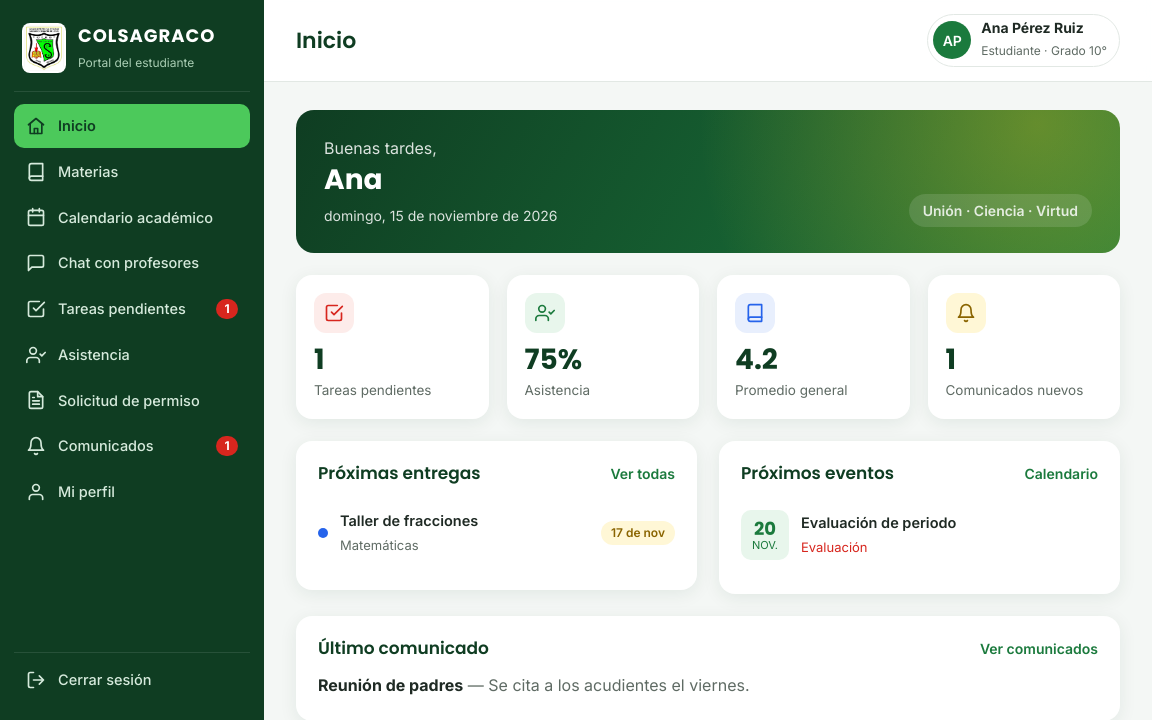
Plataforma del estudiante › Permisos: valida el motivo y envía la solicitud
The width and height of the screenshot is (1152, 720).
Expected: the heading "Ana" is shown, [324,160,382,199]
Click the button "Solicitud de permiso" at coordinates (132, 400), box [14,378,250,422]
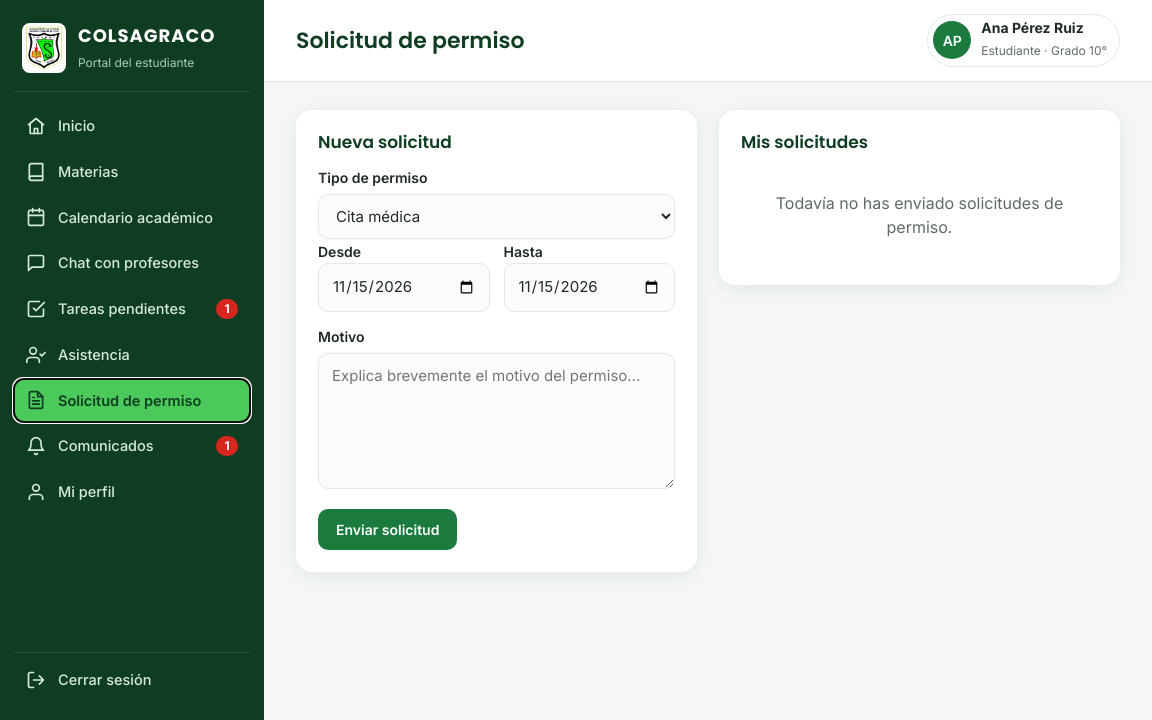
Type "corto" into the text box labelled "Motivo" at coordinates (496, 421), box [318,352,675,489]
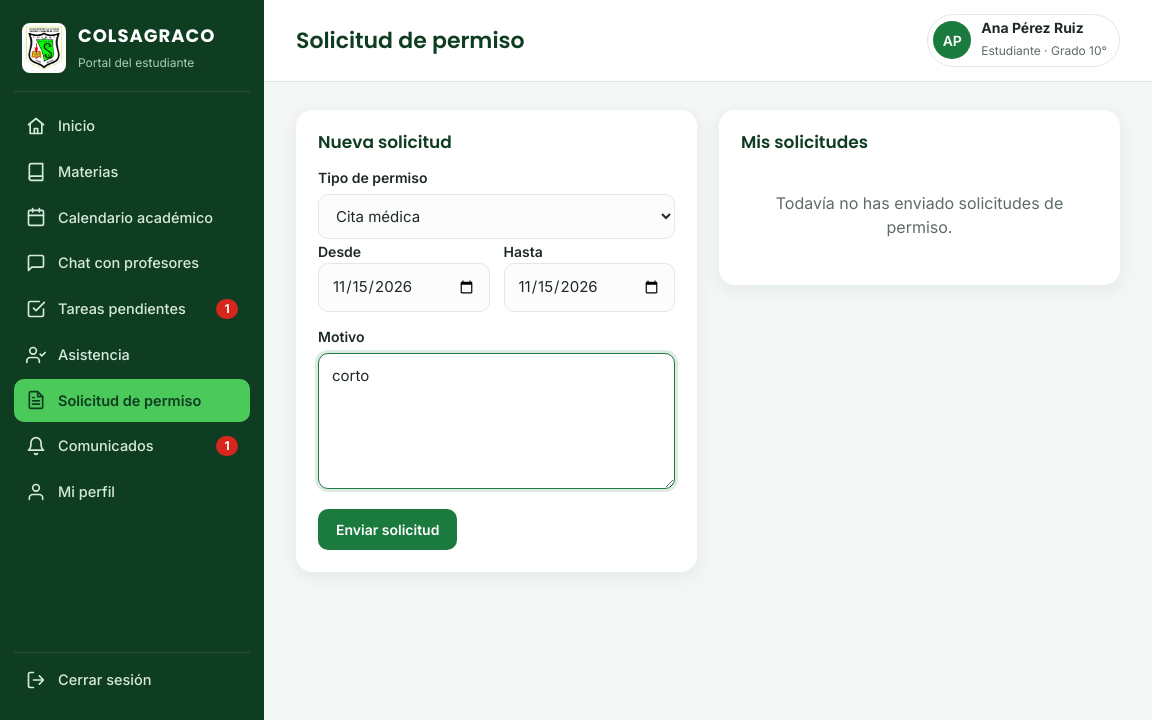
Click the button "Enviar solicitud" at coordinates (388, 530), box [318,509,457,550]
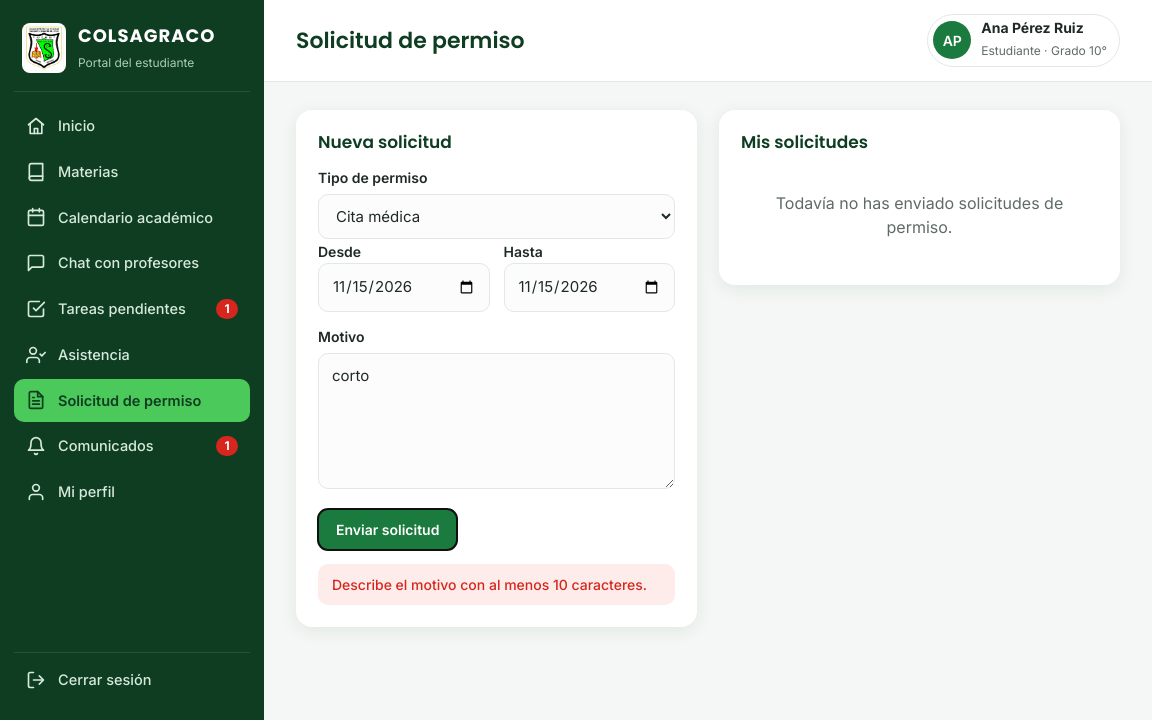
Expected: the text "Describe el motivo con al menos 10 caracteres." is shown, [318,564,675,605]
Type " — cita médica en Bucaramanga" into the text box labelled "Motivo" at coordinates (496, 421), box [318,352,675,489]
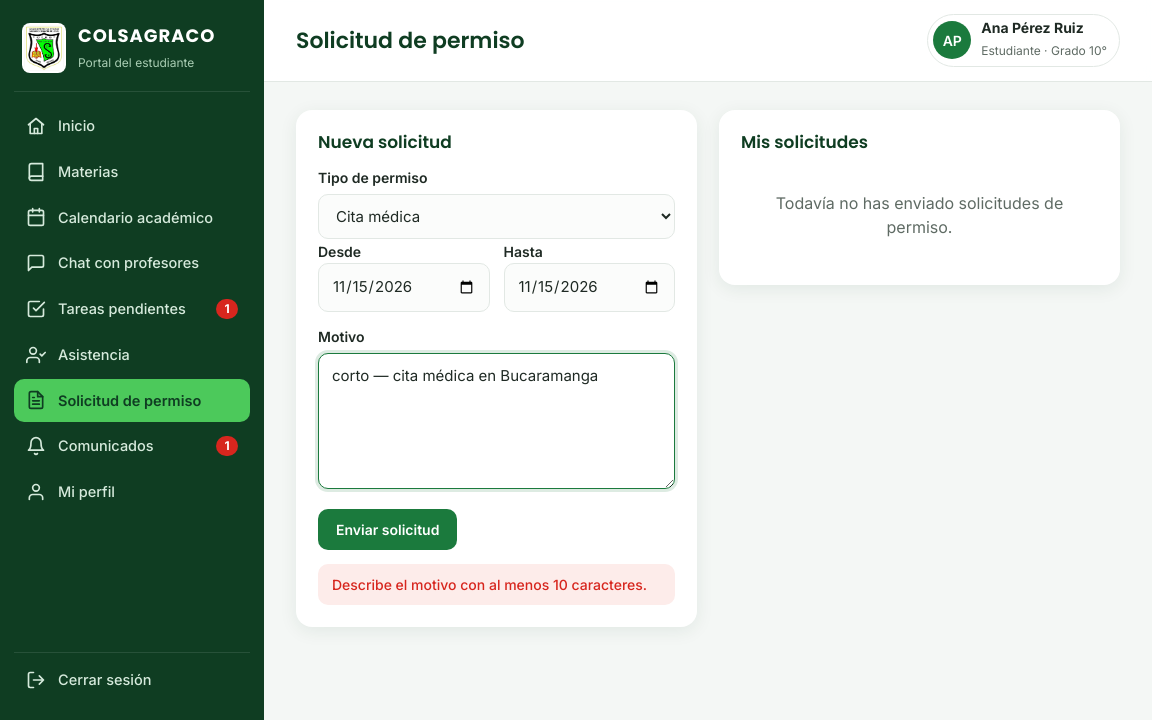
Click the button "Enviar solicitud" at coordinates (388, 530), box [318,509,457,550]
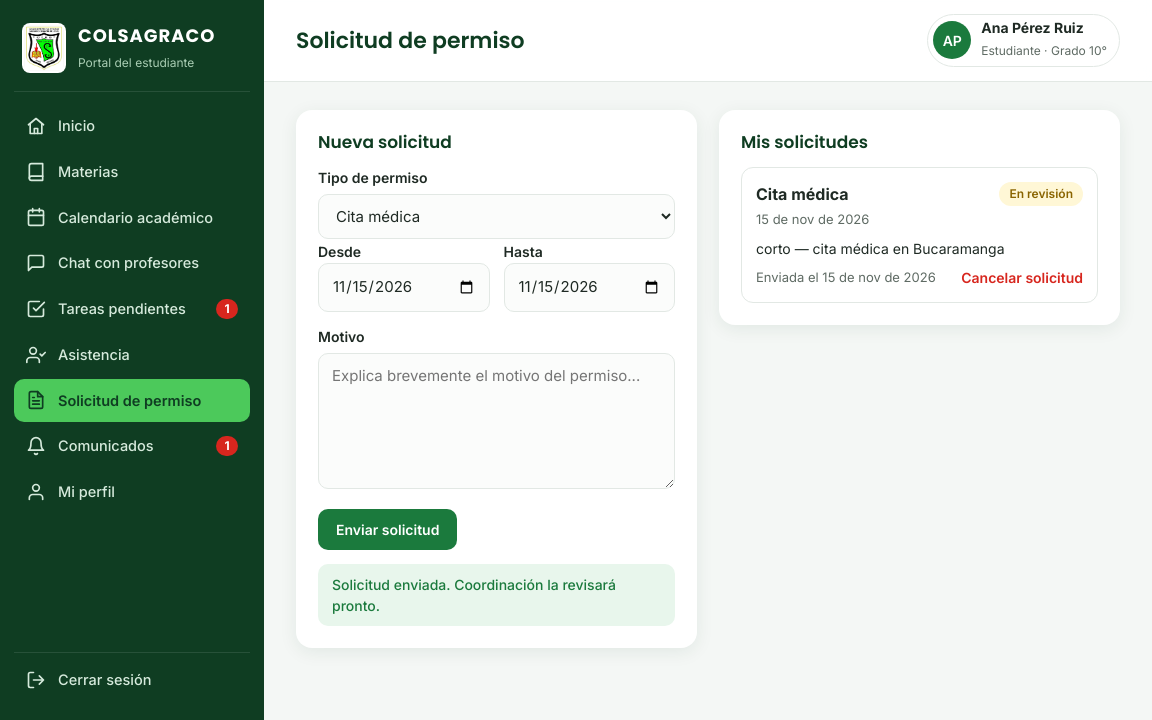
Expected: the text "Solicitud enviada. Coordinación la revisará pronto." is shown, [318,564,675,626]
Expected: the text "En revisión" is shown, [999,182,1083,206]
